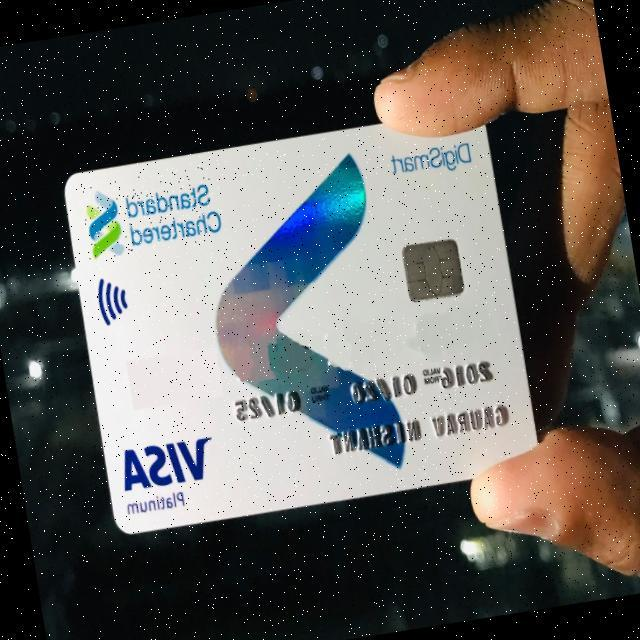Standard Chartered: (78, 166, 219, 260)
